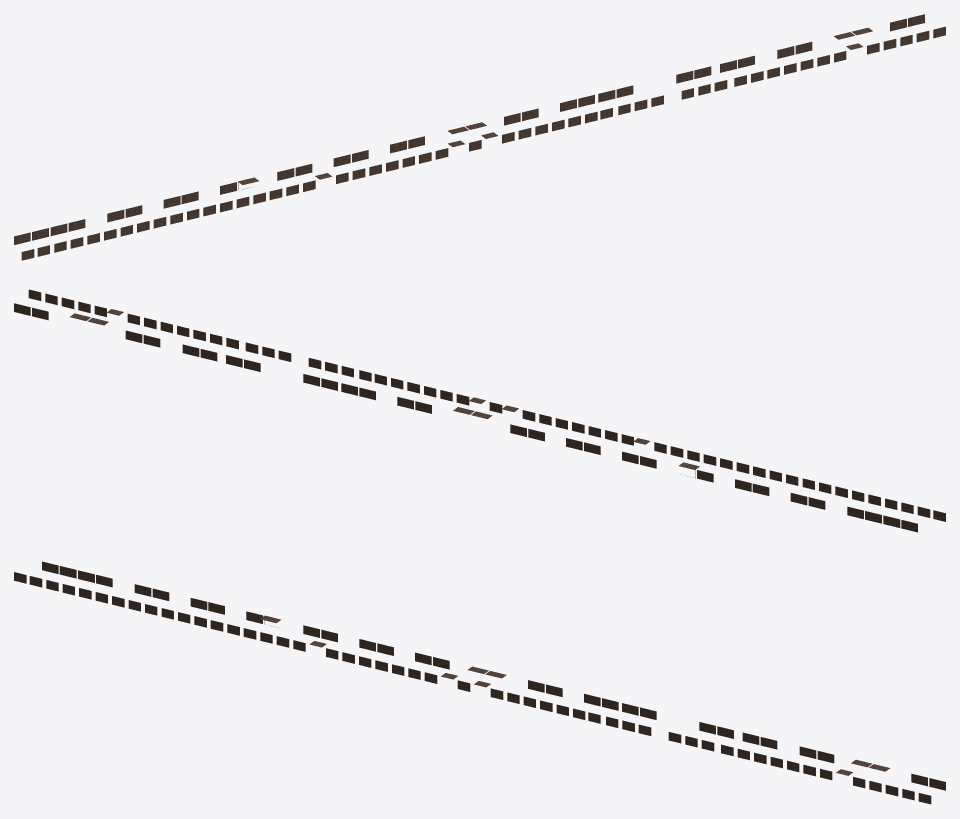
Rendered from DOORS-v1.glb.
The picture shows the model from 3 angles, top to bottom: view 1: azimuth 30°, elevation 25°; view 2: azimuth 150°, elevation 25°; view 3: azimuth 330°, elevation 25°; orthographic projection.
Parts seen in each view (by area): view 1: DOORS; view 2: DOORS; view 3: DOORS.
Boxes of the visible parts, <box> form: DOORS: <box>14,14,945,260</box>; DOORS: <box>14,289,945,532</box>; DOORS: <box>14,561,945,804</box>.
Size of the model in its own units: 272 by 2.55 by 9.52.
1 material, 1 textured.
